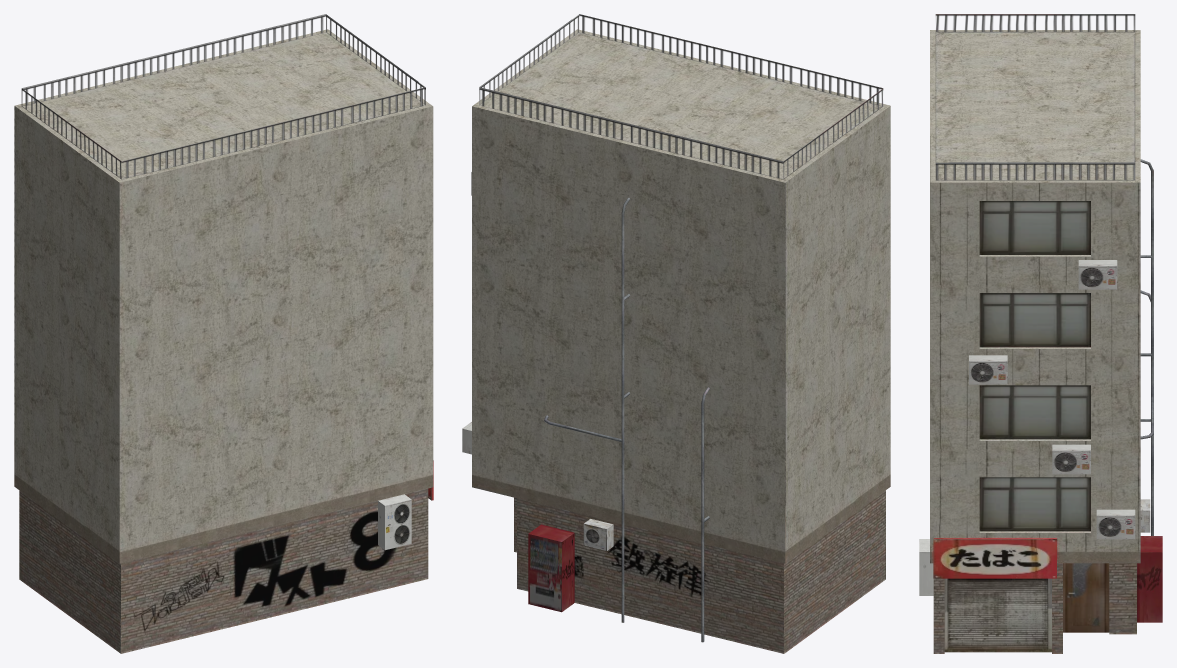
File: apartment_optimized.glb
3 views of the same model, side by side, from view 1: azimuth 30°, elevation 25°; view 2: azimuth 150°, elevation 25°; view 3: azimuth 270°, elevation 25° (orthographic).
Parts seen in each view (by area): view 1: PSX Japanese Apartment, AC#1; view 2: PSX Japanese Apartment, PSX Vending Machine, AC#5; view 3: PSX Japanese Apartment, PSX Vending Machine, AC#3, AC#2, AC#6, AC#4, AC#1, AC#5.
Part boxes in pixels (x1,y1,x2,y2): PSX Japanese Apartment: (14, 14, 433, 653); AC#1: (378, 494, 411, 550); PSX Japanese Apartment: (472, 14, 890, 653); PSX Vending Machine: (528, 524, 574, 612); AC#5: (583, 519, 613, 550); PSX Japanese Apartment: (930, 14, 1153, 653); PSX Vending Machine: (1137, 536, 1162, 622); AC#3: (1096, 509, 1135, 539); AC#2: (1052, 444, 1090, 474); AC#6: (1078, 260, 1117, 289); AC#4: (969, 355, 1007, 384); AC#1: (919, 539, 933, 595); AC#5: (1140, 499, 1150, 532).
Size of the model in its own units: 7.39 by 10.66 by 4.79.
Materials: 3 (3 with a texture image).
